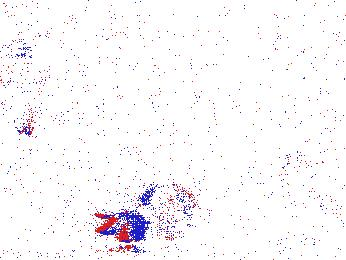flame jellyfish: (97, 184, 199, 243), (260, 153, 324, 228), (1, 51, 54, 136)
